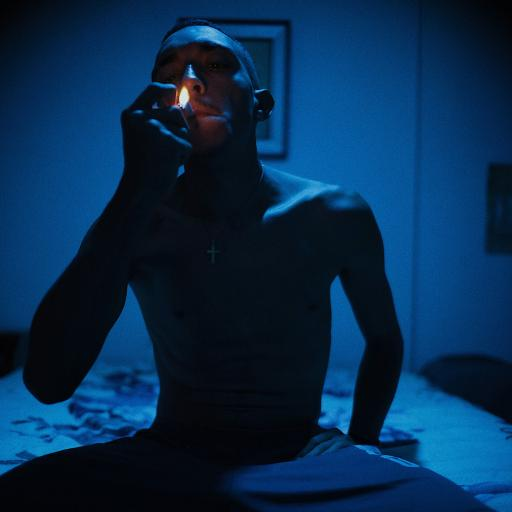fire: (162, 73, 208, 125)
